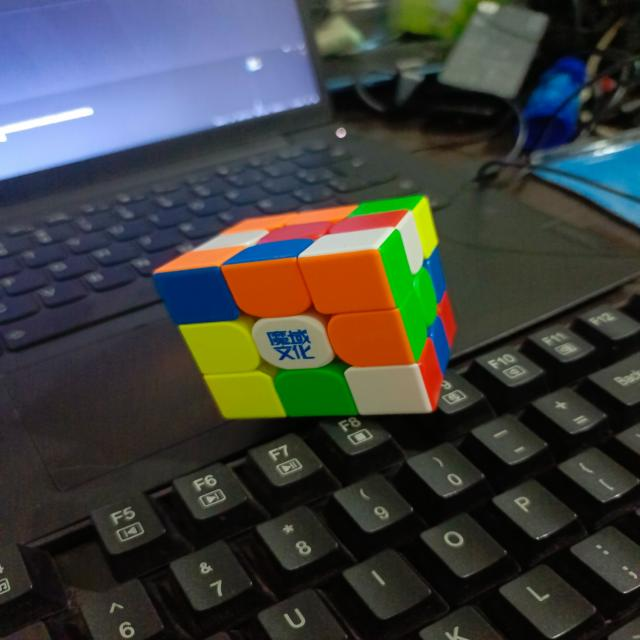rubik: (151, 193, 457, 420)
